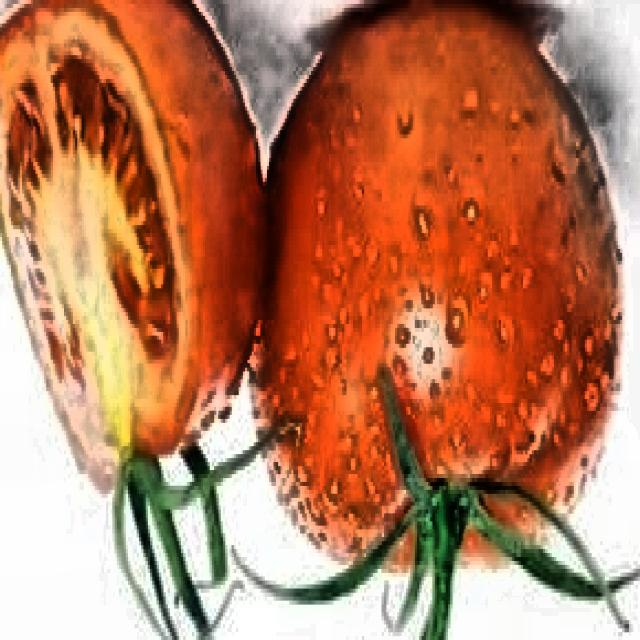Vegetable: (0, 0, 636, 640)
